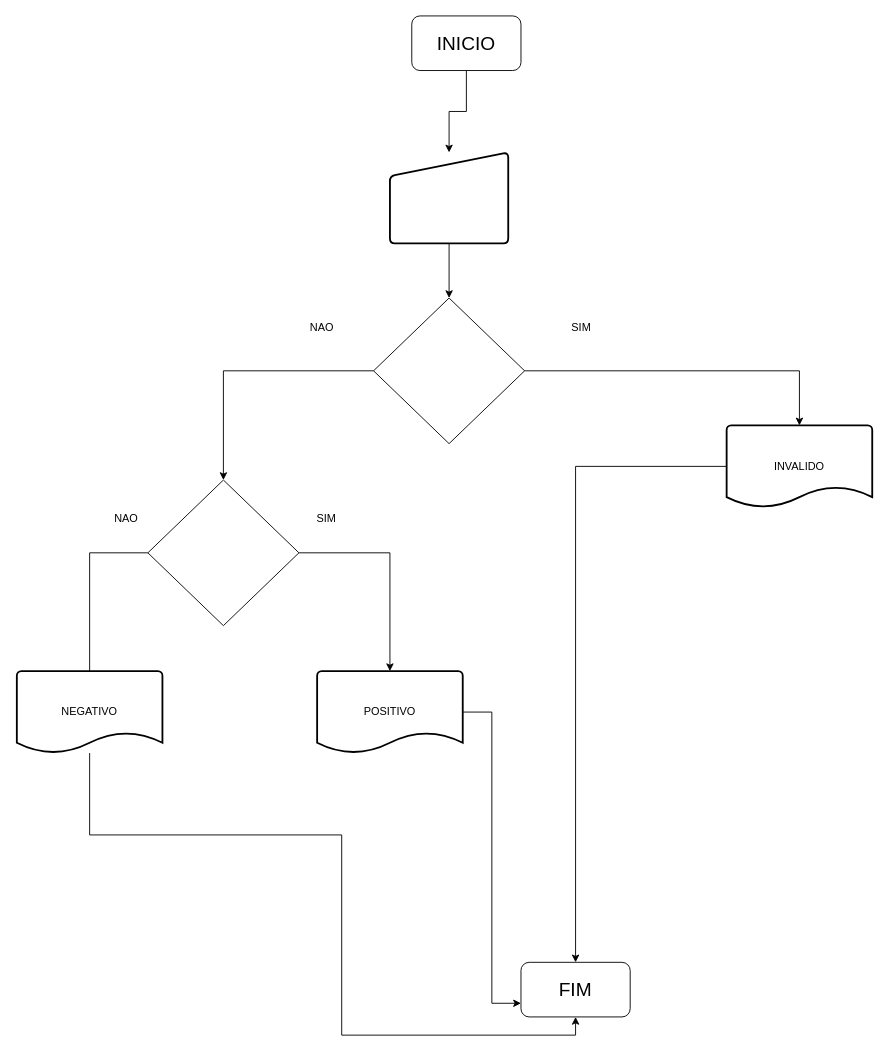
Some shapes in this 888 by 1058 pixel diagram are drawn without their labels. The shapes that lost their labels are listed below. From the top down, each one's box as (x1, y1, x2, y2) in pixels, then its label:
(389, 151, 509, 244): n1 =
(373, 297, 525, 444): n1 = 0
(147, 479, 299, 626): n1 > 0
